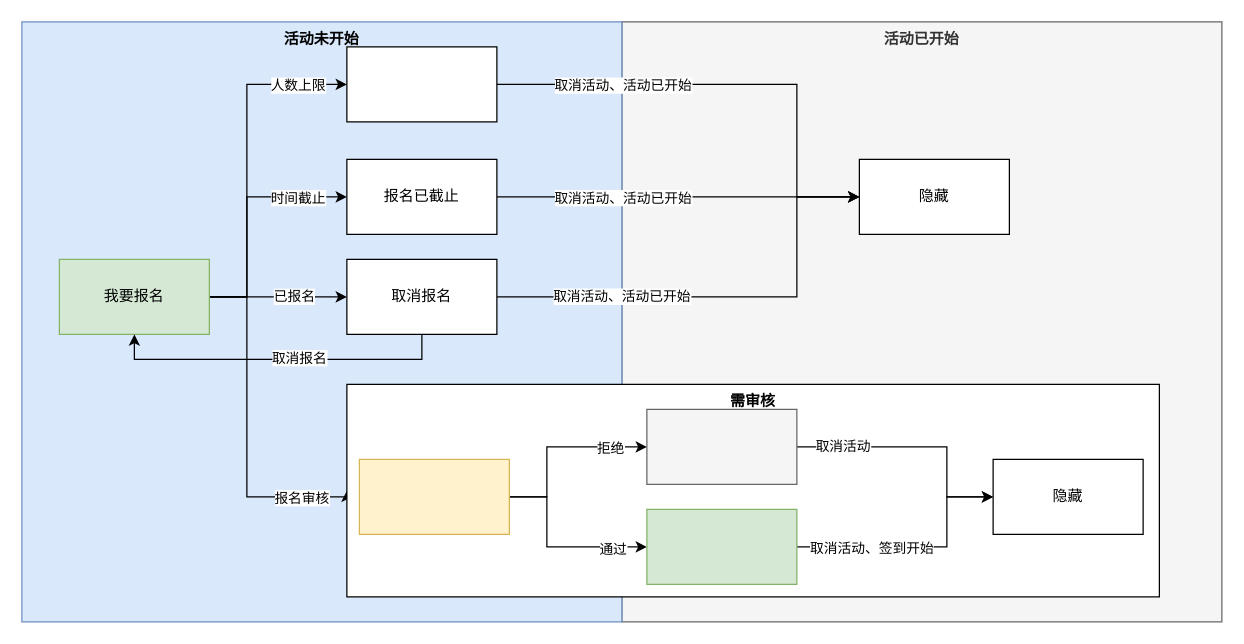
This 1244x644 diagram has some shape labels left out. The shapes that lost their labels are listed below. From the top down, each one's centre as x and y in pixels, then its label:
the point at 421,84: 已报满
the point at 721,446: 报名失败
the point at 433,496: 报名审核中
the point at 721,546: 报名成功
